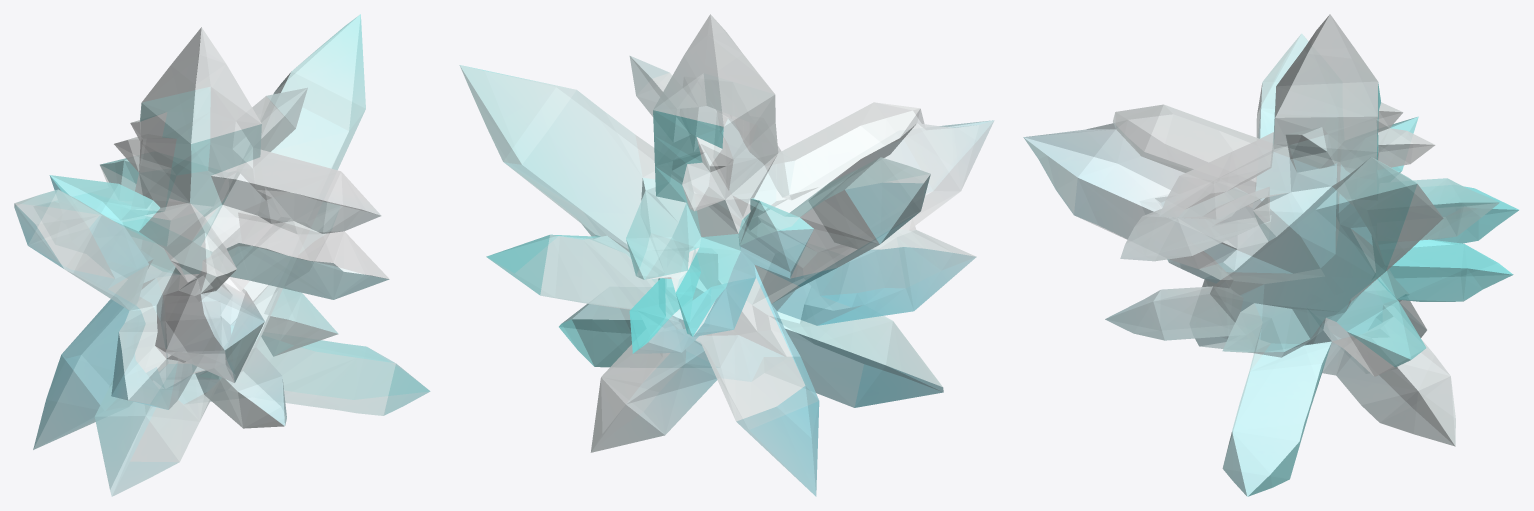
Rendered from VoidDiamond_Extractable1.glb.
The picture shows the model from 3 angles, left to right: view 1: azimuth 30°, elevation 25°; view 2: azimuth 150°, elevation 25°; view 3: azimuth 270°, elevation 25°; orthographic projection. The views are drawn at different scales.
Visible parts, largest first — view 1: Extractable 1; view 2: Extractable 1; view 3: Extractable 1.
Part boxes in pixels (x1,y1,x2,y2): Extractable 1: (14,14,430,496); Extractable 1: (459,14,994,496); Extractable 1: (1023,14,1518,496).
Bounding box in the file's own units: 1.39 × 1.36 × 1.45.
Materials: 1 (1 with a texture image).
